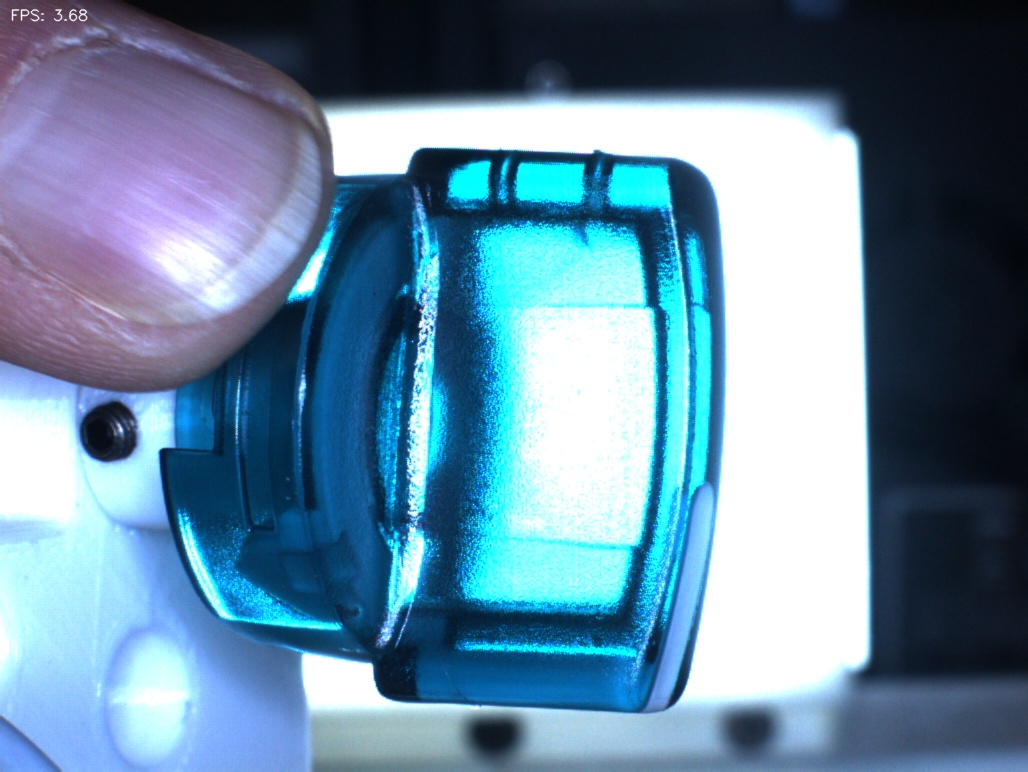Bulle: (466, 123, 546, 200)
